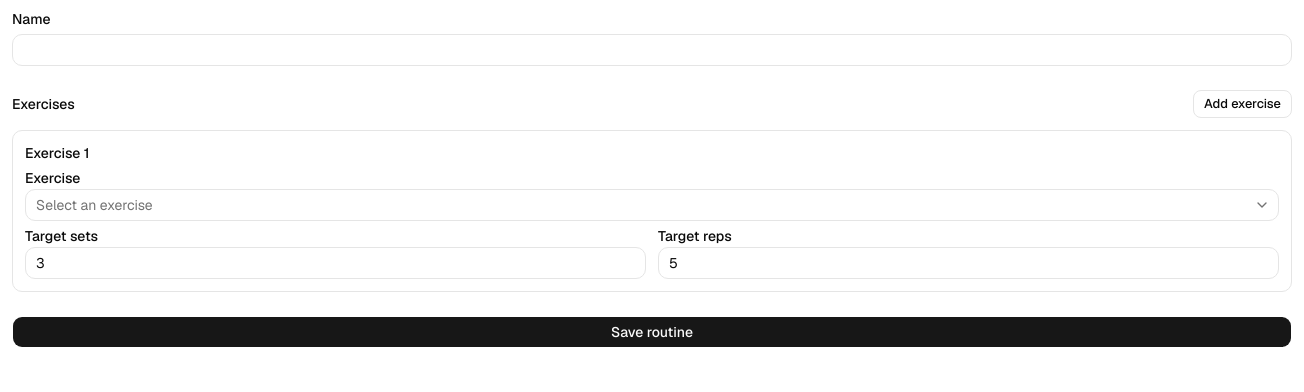
RoutineForm › requires a non-empty name
This screenshot has width=1304, height=392.
Click the dropdown labelled "Select an exercise ▼".
click(94, 205)  # box [25,189,1279,221]
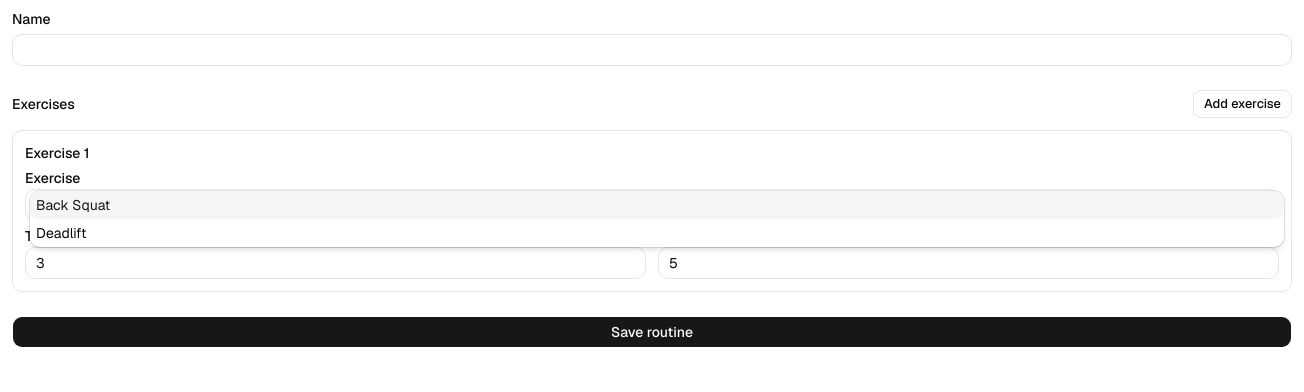
Click the option "Back Squat".
click(73, 205)  # box [30,191,1284,219]
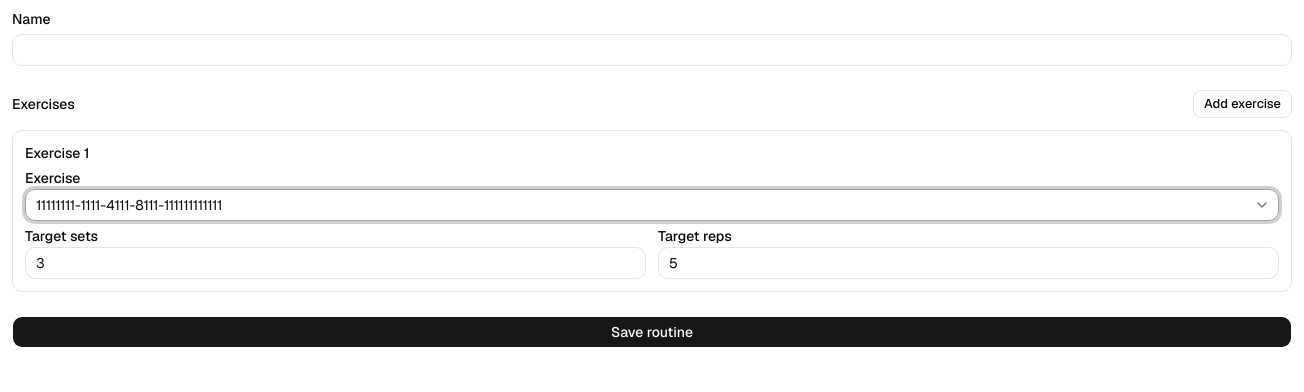
Click the button "Save routine".
click(652, 332)  # box [12,316,1292,348]
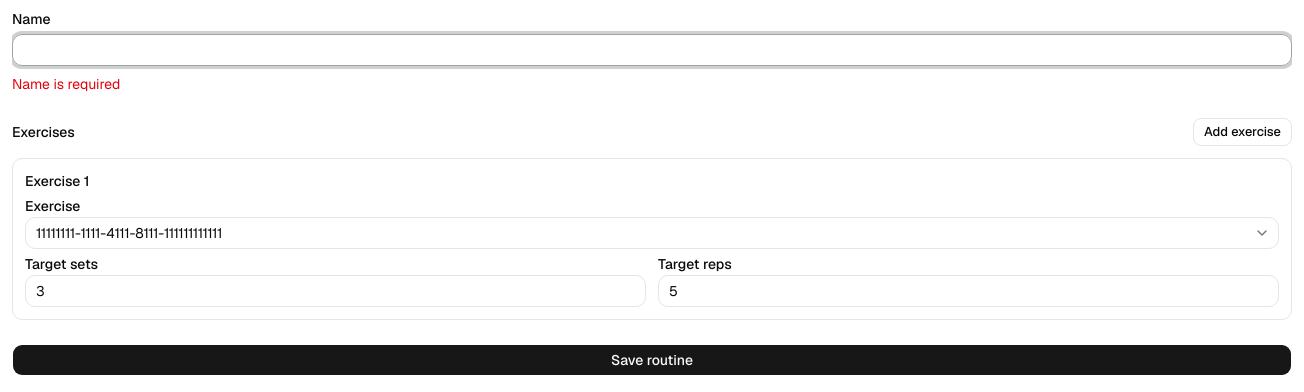
Now the text "Name is required" is shown, box [12,75,120,93]
